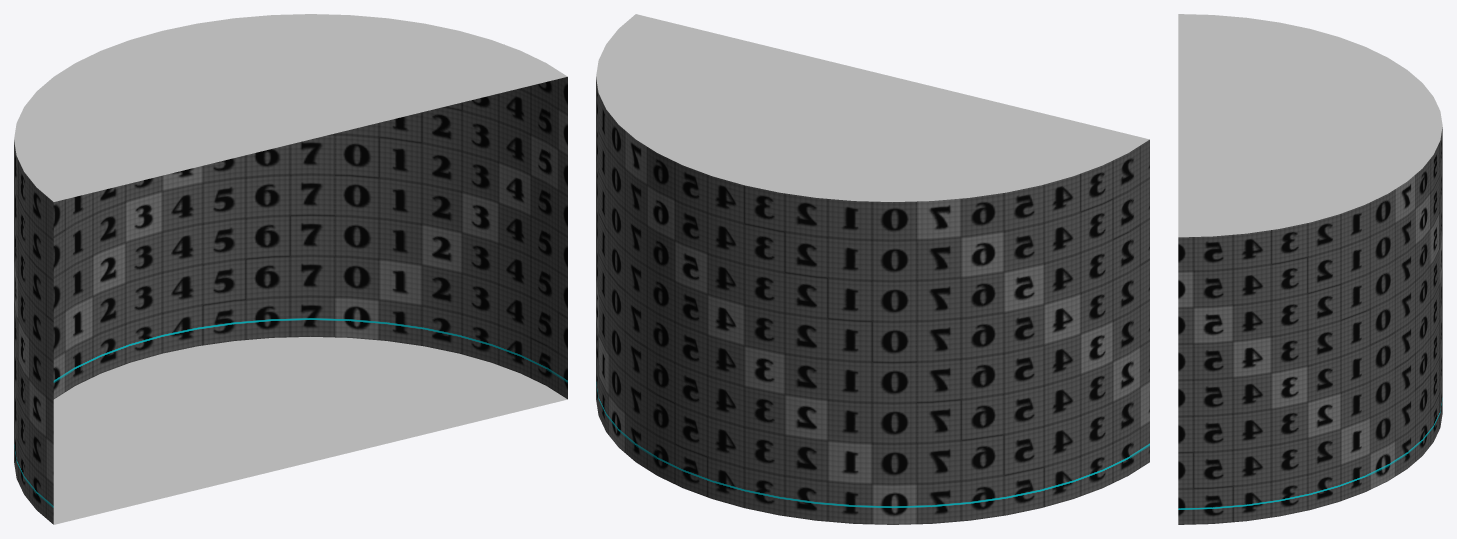
The model's file is WallFrameEnd500x300xR250cm.FBX.
The picture shows the model from 3 angles, left to right: view 1: azimuth 30°, elevation 25°; view 2: azimuth 150°, elevation 25°; view 3: azimuth 270°, elevation 25°; orthographic projection. The views are drawn at different scales.
Parts seen in each view (by area): view 1: WallFrameEnd500x300xR250cm; view 2: WallFrameEnd500x300xR250cm; view 3: WallFrameEnd500x300xR250cm.
Boxes of the visible parts, left/top/right/bottom form: WallFrameEnd500x300xR250cm: left=14, top=14, right=567, bottom=524; WallFrameEnd500x300xR250cm: left=596, top=14, right=1149, bottom=524; WallFrameEnd500x300xR250cm: left=1178, top=14, right=1442, bottom=524.
Size of the model in its own units: 500 by 300 by 250.
